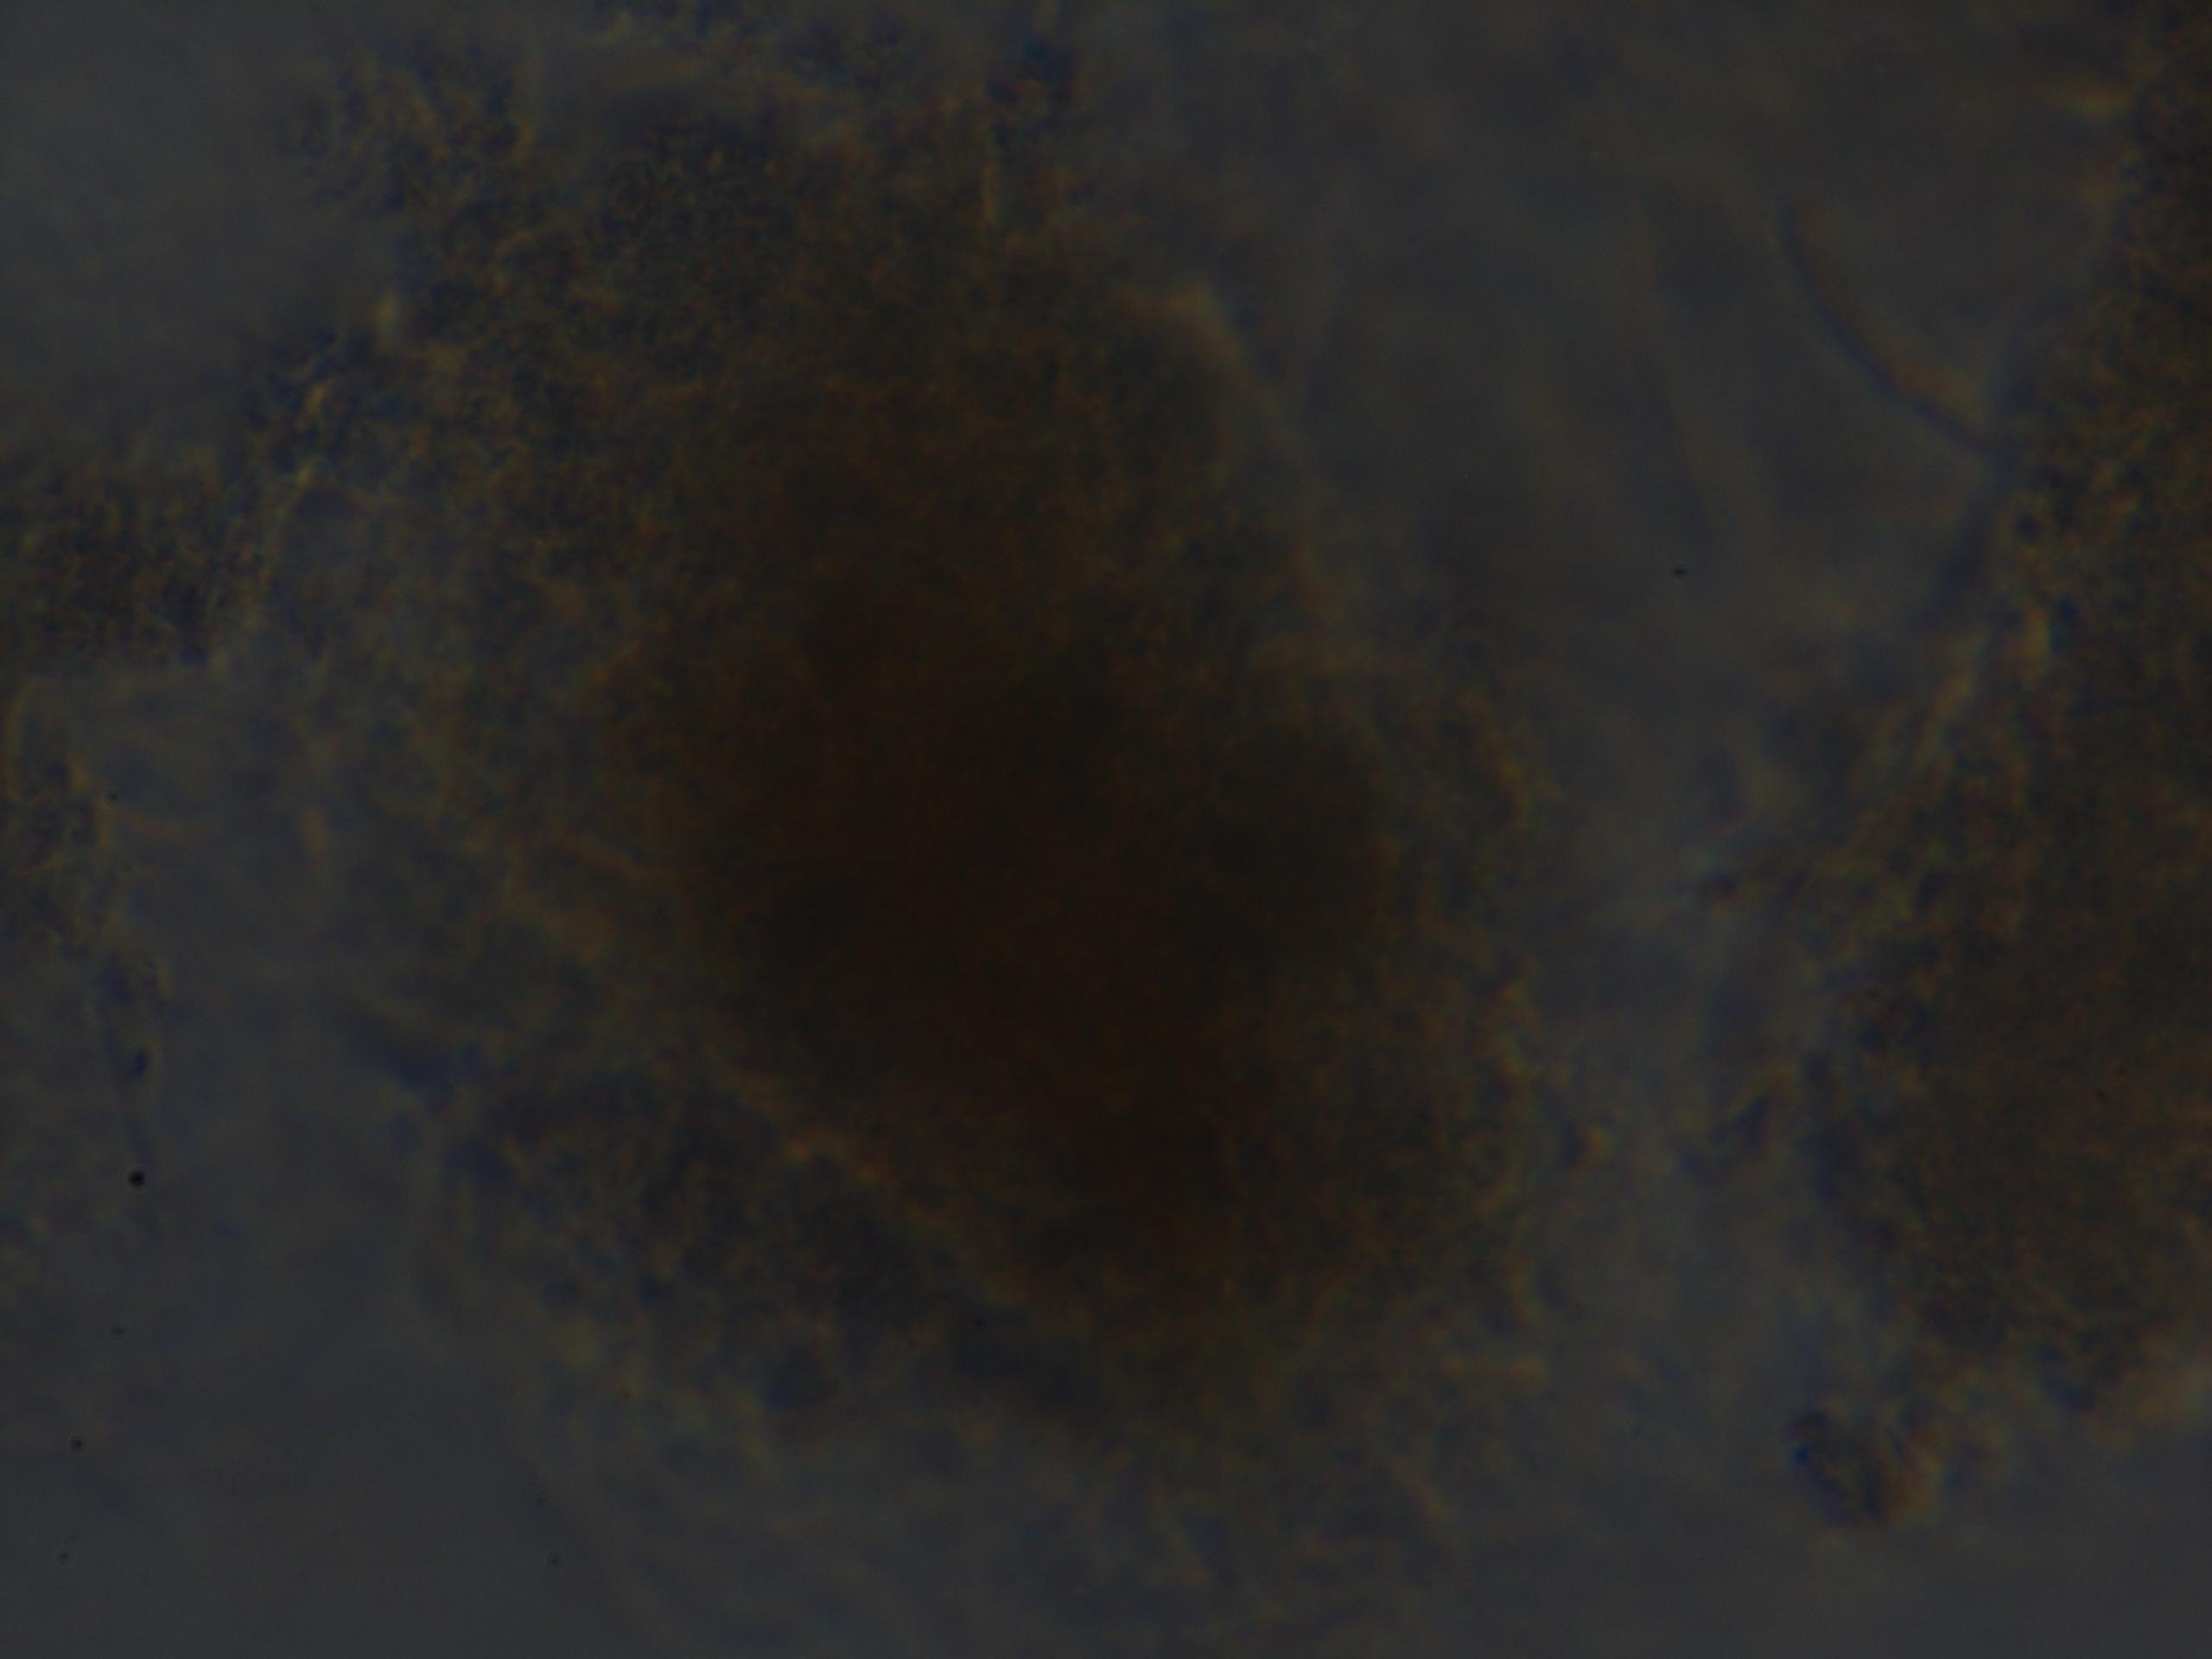spherical_floc: (439, 117, 1514, 1427)
